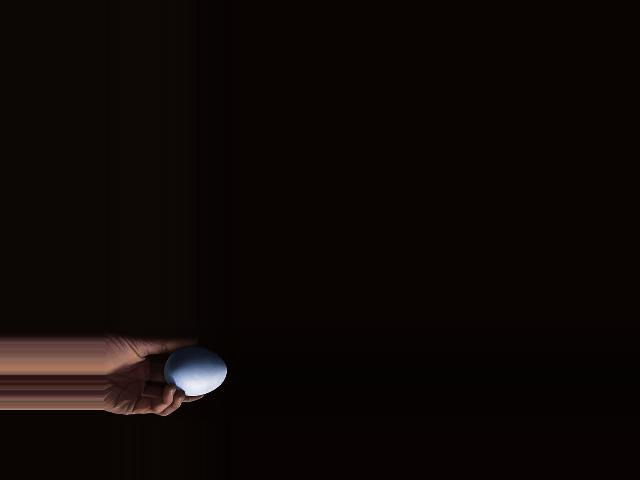egg: (164, 347, 227, 397)
